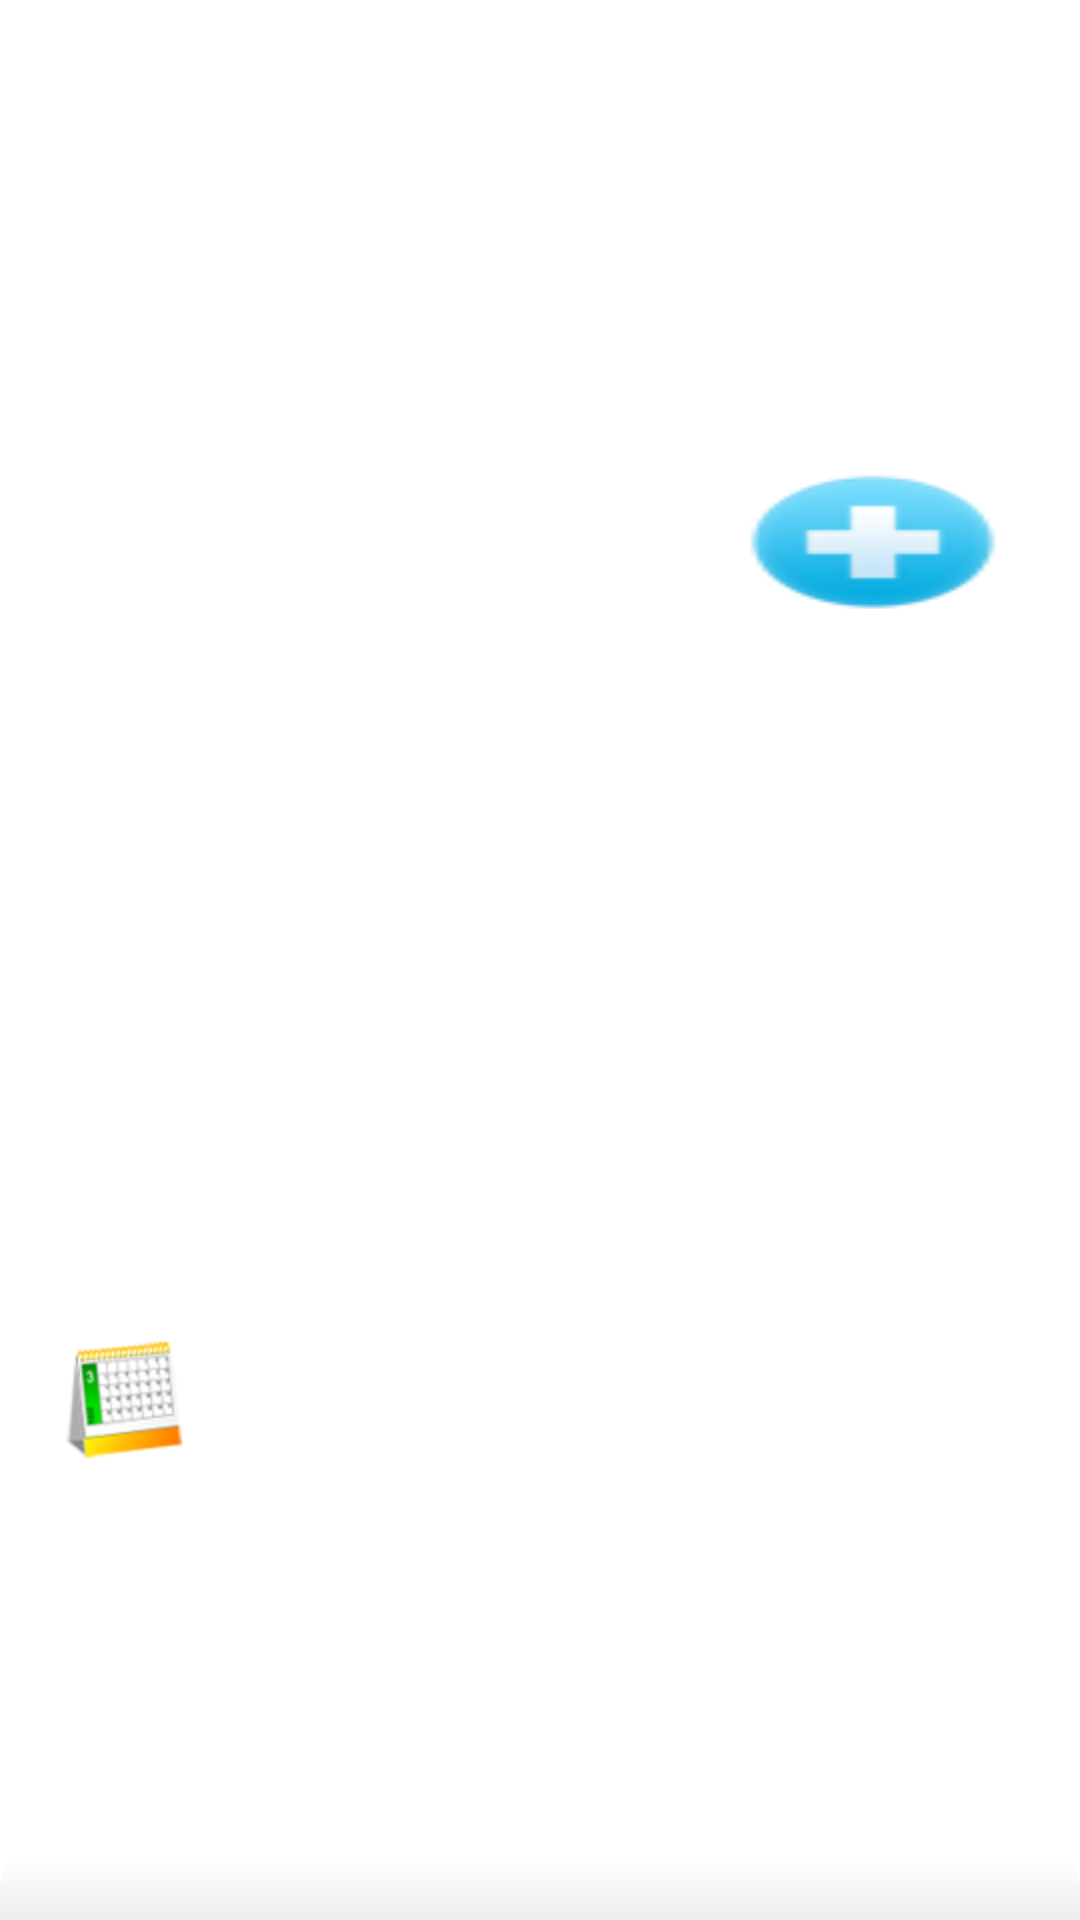

Point at icon controls on the screen. Image size 1080 × 1920, points as point (x, y).
add: point (873, 542)
calendar: point (125, 1400)
